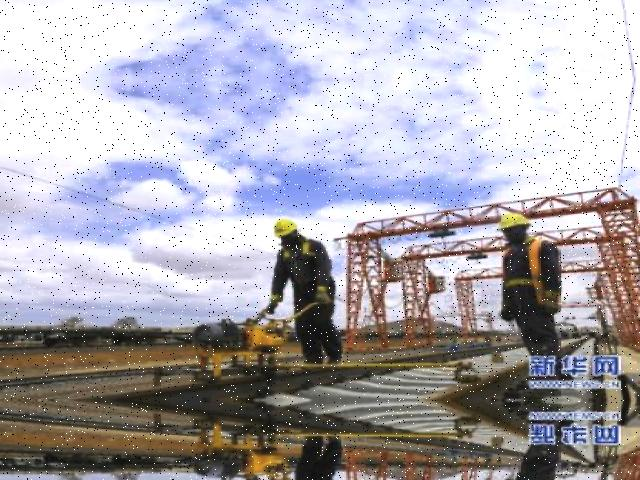Helmet: (489, 210, 534, 232), (270, 214, 299, 239)
